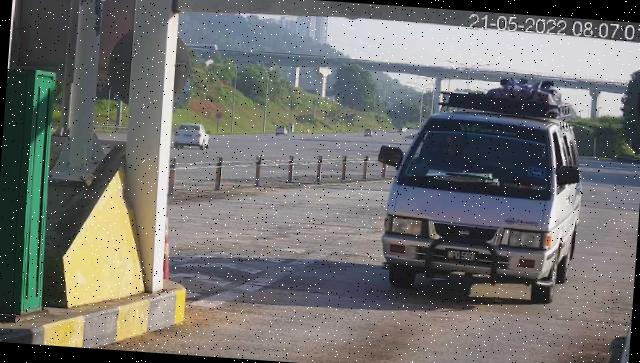License_Plate: (442, 247, 480, 268)
van: (380, 71, 591, 307)
